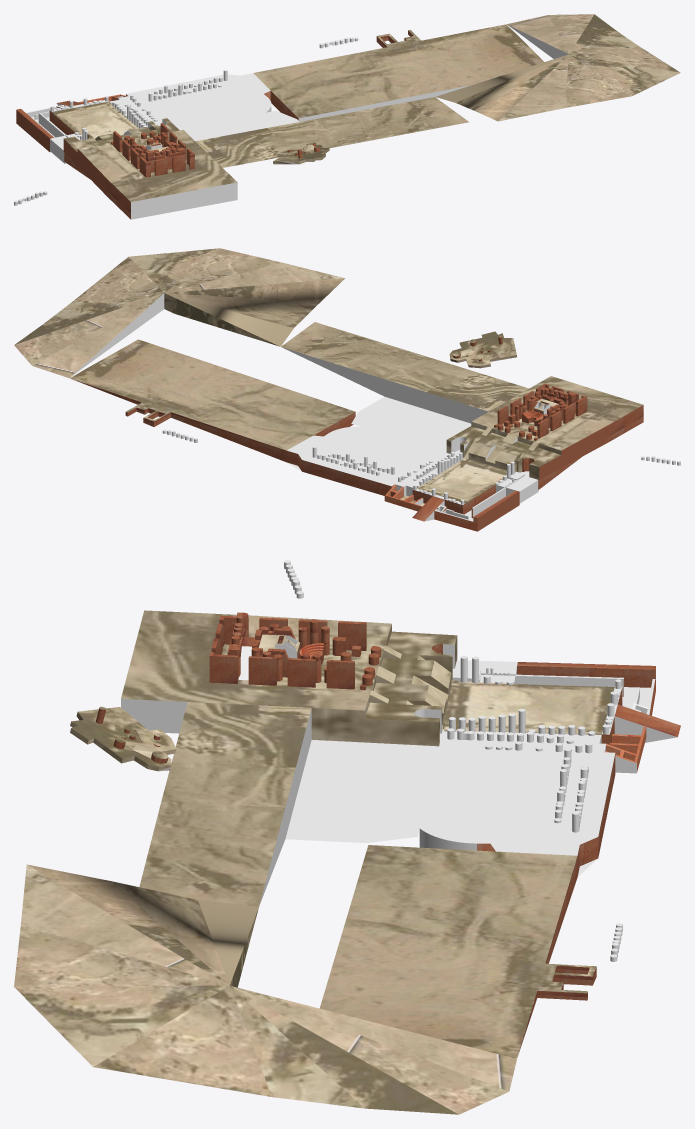
The model's file is part_1_temple.fbx.
3 views of the same model, one above another, from view 1: azimuth 30°, elevation 25°; view 2: azimuth 150°, elevation 25°; view 3: azimuth 270°, elevation 25° (orthographic). The views are drawn at different scales.
Parts seen in each view (by area): view 1: Petra___The_Great_Temple1; view 2: Petra___The_Great_Temple1; view 3: Petra___The_Great_Temple1.
Boxes of the visible parts, x1=… form: Petra___The_Great_Temple1: x1=14, y1=14, x2=680, y2=219; Petra___The_Great_Temple1: x1=14, y1=248, x2=680, y2=531; Petra___The_Great_Temple1: x1=14, y1=560, x2=680, y2=1114.
Bounding box in the file's own units: 14653 × 1299 × 7456.
